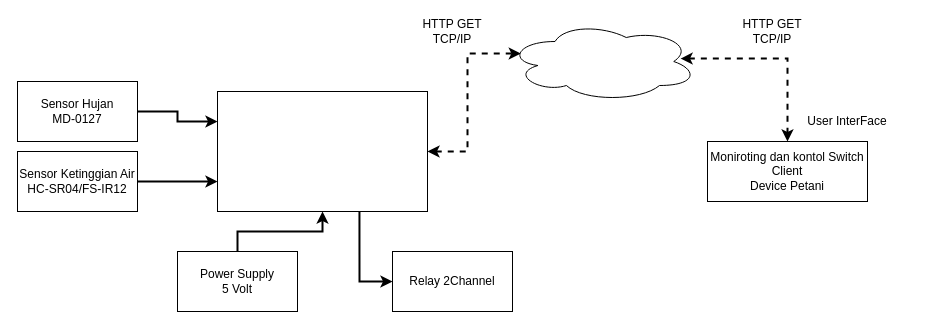
This 935x329 diagram has some shape labels left out. Each missing label, with the box of its shape:
Cloud Server 000webhostapp.com: (506, 20, 698, 102)
ESP32 LORA 915 Mhz LoraWAN: (216, 90, 428, 212)
